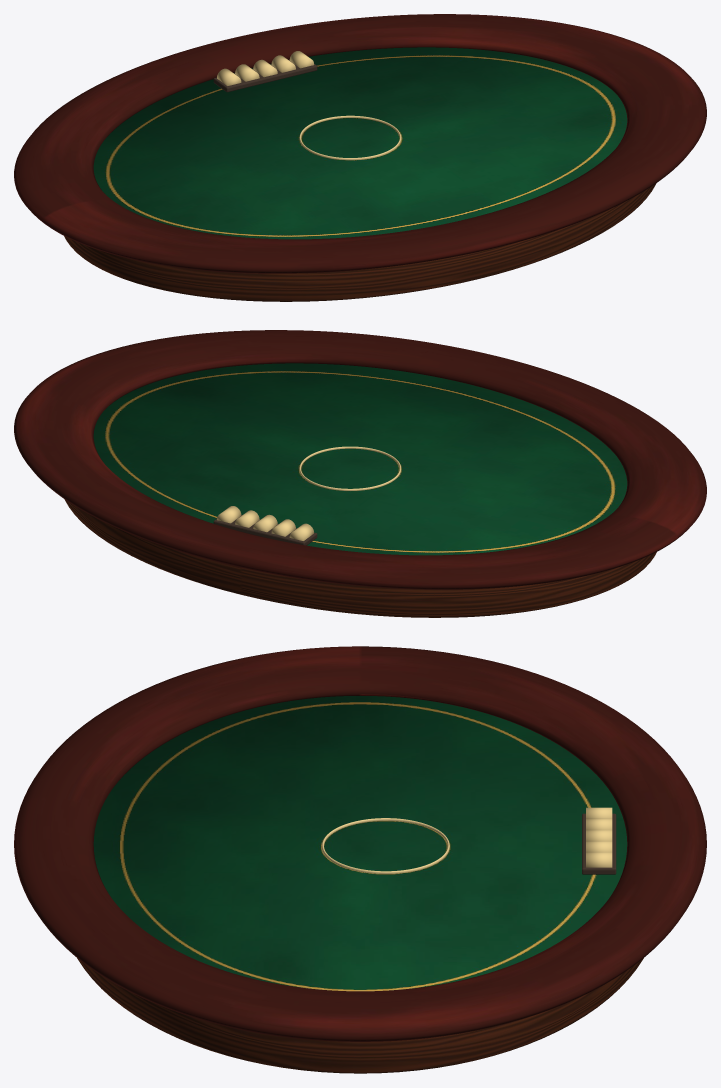
The model's file is table.glb.
3 views of the same model, one above another, from view 1: azimuth 30°, elevation 25°; view 2: azimuth 150°, elevation 25°; view 3: azimuth 270°, elevation 25° (orthographic). The views are drawn at different scales.
Visible parts, largest first — view 1: Table_Felt, Table_Rail, Table_Apron, Dealer_Tray, Pot_Ring; view 2: Table_Felt, Table_Rail, Table_Apron, Dealer_Tray, Pot_Ring; view 3: Table_Felt, Table_Rail, Table_Apron, Pot_Ring, Dealer_Tray.
Boxes of the visible parts, x1,y1,x2,y2 form: Table_Felt: (93, 47, 627, 239); Table_Rail: (14, 14, 706, 273); Table_Apron: (64, 183, 656, 301); Dealer_Tray: (213, 60, 317, 92); Pot_Ring: (299, 115, 401, 160); Table_Felt: (93, 363, 627, 555); Table_Rail: (14, 330, 706, 589); Table_Apron: (64, 499, 656, 617); Dealer_Tray: (213, 515, 317, 545); Pot_Ring: (299, 446, 401, 490); Table_Felt: (93, 696, 627, 991); Table_Rail: (14, 646, 706, 1041); Table_Apron: (77, 958, 643, 1073); Pot_Ring: (321, 818, 449, 873); Dealer_Tray: (582, 813, 616, 874).
Size of the model in its own units: 9.09 by 0.805 by 6.83.
5 materials, 3 textured.
